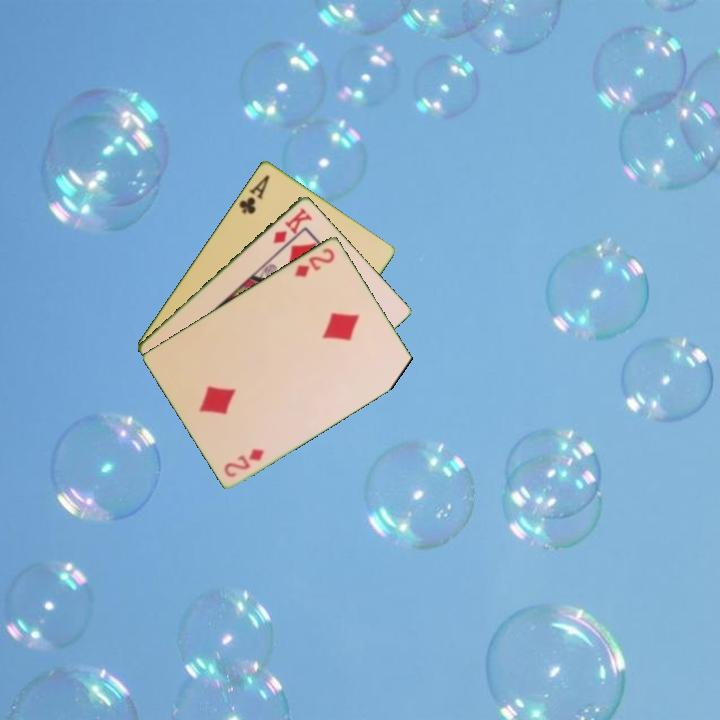2d: (291, 244, 338, 280), (220, 445, 267, 480)
Ac: (235, 171, 272, 217)
Kd: (269, 204, 314, 246)
